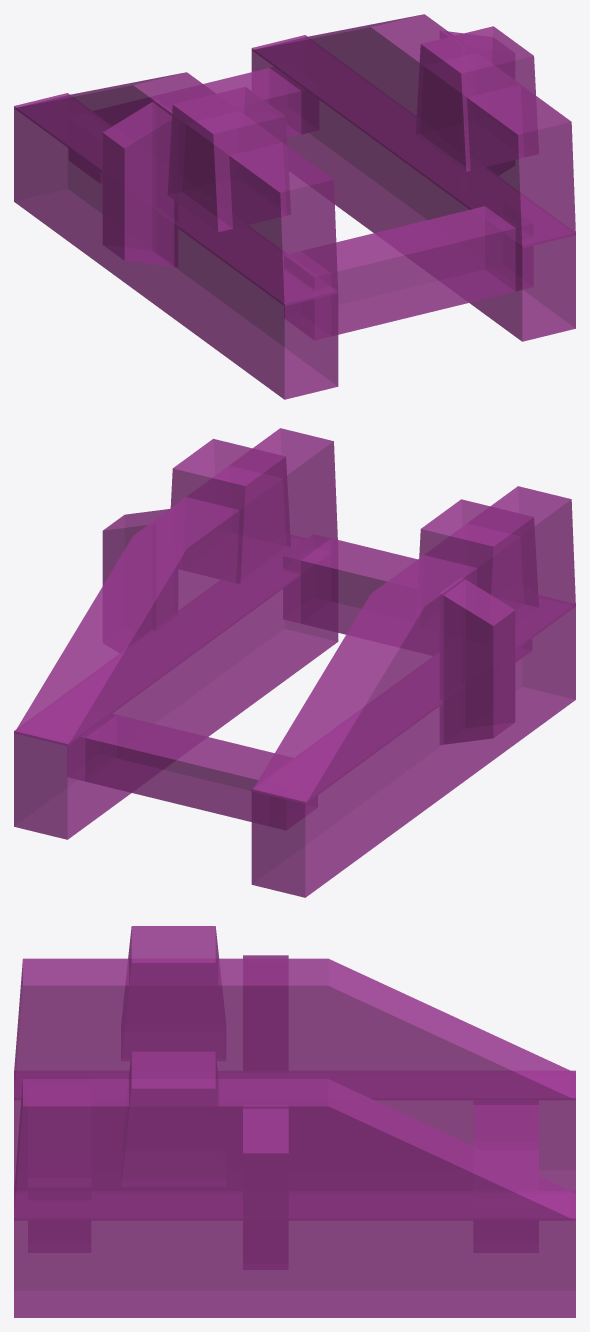
Rendered from SM_Wep_Cannon_04_Collision.fbx.
The picture shows the model from 3 angles, top to bottom: view 1: azimuth 30°, elevation 25°; view 2: azimuth 150°, elevation 25°; view 3: azimuth 270°, elevation 25°; orthographic projection. The views are drawn at different scales.
Visible parts, largest first — view 1: SM_Wep_Cannon_04_Collision; view 2: SM_Wep_Cannon_04_Collision; view 3: SM_Wep_Cannon_04_Collision.
Boxes of the visible parts, box(x1,y1,x2,y2) form: SM_Wep_Cannon_04_Collision: box(14, 14, 575, 399); SM_Wep_Cannon_04_Collision: box(14, 428, 575, 897); SM_Wep_Cannon_04_Collision: box(14, 926, 575, 1317).
Size of the model in its own units: 130 by 72.61 by 156.
